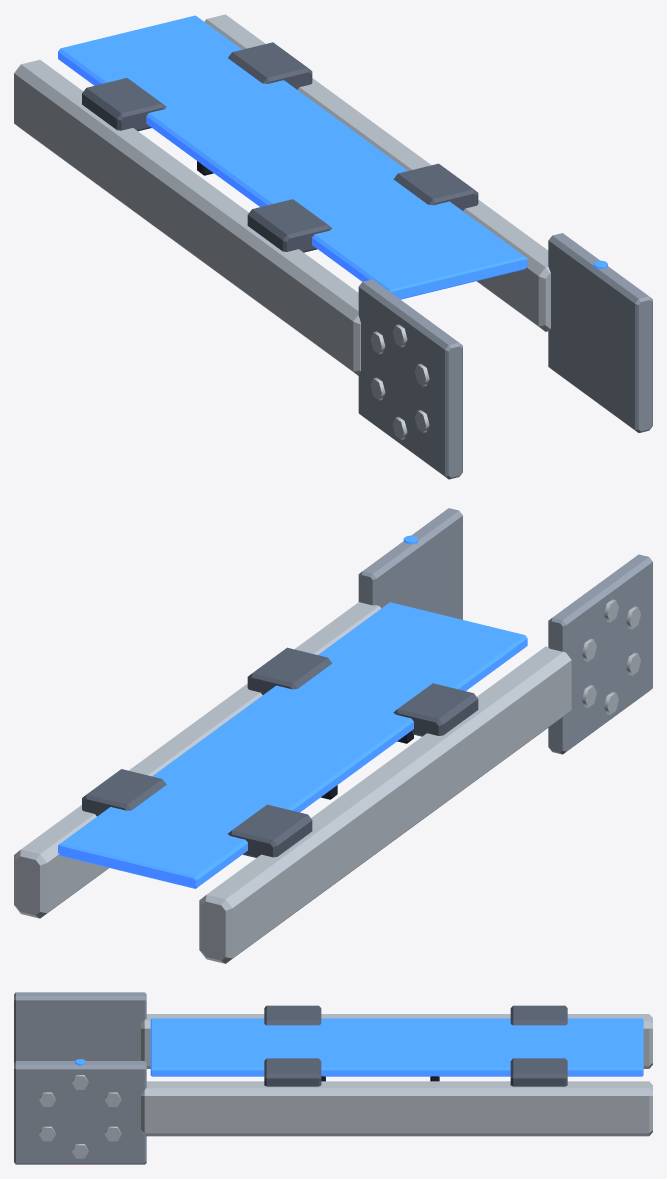
Rendered from tower_lance_damage_s4.glb.
3 views of the same model, one above another, from view 1: azimuth 30°, elevation 25°; view 2: azimuth 150°, elevation 25°; view 3: azimuth 270°, elevation 25° (orthographic). The views are drawn at different scales.
Parts seen in each view (by area): view 1: lance_accelerator_b, lance_heavy_rail_r, lance_breech_cheek_l, lance_breech_cheek_r, lance_heavy_rail_l, lance_heavy_rail_brace_r, lance_heavy_rail_brace2_r, lance_heavy_rail_brace_l, lance_heavy_rail_brace2_l, lance_cheek_bolts_l; view 2: lance_accelerator_b, lance_heavy_rail_r, lance_breech_cheek_r, lance_heavy_rail_l, lance_breech_cheek_l, lance_heavy_rail_brace2_r, lance_heavy_rail_brace_r, lance_heavy_rail_brace_l, lance_heavy_rail_brace2_l, lance_cheek_bolts_l; view 3: lance_heavy_rail_l, lance_accelerator_b, lance_breech_cheek_l, lance_breech_cheek_r, lance_heavy_rail_r, lance_heavy_rail_brace2_l, lance_heavy_rail_brace_l, lance_cheek_bolts_r, lance_heavy_rail_brace_r, lance_heavy_rail_brace2_r.
Part boxes in pixels (x1,y1,x2,y2): lance_accelerator_b: [58, 15, 527, 299]; lance_heavy_rail_r: [14, 59, 360, 375]; lance_breech_cheek_l: [548, 233, 652, 432]; lance_breech_cheek_r: [358, 279, 462, 479]; lance_heavy_rail_l: [204, 14, 550, 331]; lance_heavy_rail_brace_r: [247, 199, 332, 252]; lance_heavy_rail_brace2_r: [82, 78, 166, 131]; lance_heavy_rail_brace_l: [393, 163, 478, 210]; lance_heavy_rail_brace2_l: [228, 42, 312, 89]; lance_cheek_bolts_l: [370, 324, 429, 439]; lance_accelerator_b: [58, 602, 527, 888]; lance_heavy_rail_r: [199, 646, 571, 963]; lance_breech_cheek_r: [548, 554, 652, 754]; lance_heavy_rail_l: [14, 602, 380, 918]; lance_breech_cheek_l: [358, 508, 462, 619]; lance_heavy_rail_brace2_r: [228, 804, 312, 857]; lance_heavy_rail_brace_r: [393, 683, 478, 736]; lance_heavy_rail_brace_l: [247, 647, 332, 694]; lance_heavy_rail_brace2_l: [82, 769, 166, 816]; lance_cheek_bolts_l: [582, 599, 640, 714]; lance_heavy_rail_l: [141, 1081, 652, 1136]; lance_accelerator_b: [150, 1018, 643, 1076]; lance_breech_cheek_l: [14, 1061, 146, 1164]; lance_breech_cheek_r: [14, 992, 146, 1062]; lance_heavy_rail_r: [141, 1014, 652, 1068]; lance_heavy_rail_brace2_l: [510, 1058, 567, 1086]; lance_heavy_rail_brace_l: [264, 1058, 321, 1086]; lance_cheek_bolts_r: [39, 1075, 121, 1158]; lance_heavy_rail_brace_r: [264, 1005, 321, 1025]; lance_heavy_rail_brace2_r: [510, 1005, 567, 1025].
Bounding box in the file's own units: 0.9896 × 0.5926 × 3.37.
